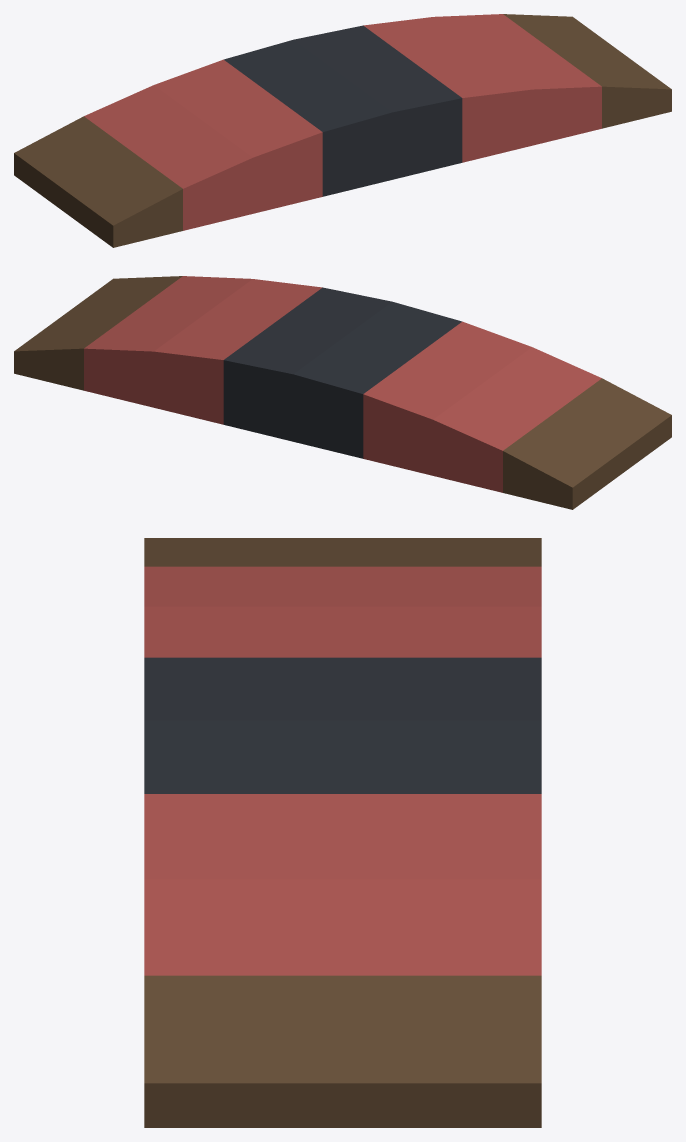
Rendered from candy_bar.glb.
3 renders of one model, top to bottom at view 1: azimuth 30°, elevation 25°; view 2: azimuth 150°, elevation 25°; view 3: azimuth 270°, elevation 25°, orthographic. The views are drawn at different scales.
Parts seen in each view (by area): view 1: candy_bar; view 2: candy_bar; view 3: candy_bar.
Part boxes in pixels (x1,y1,x2,y2): candy_bar: [14, 14, 671, 247]; candy_bar: [14, 276, 671, 509]; candy_bar: [144, 538, 541, 1127].
Size of the model in its own units: 0.13 by 0.015 by 0.04.
